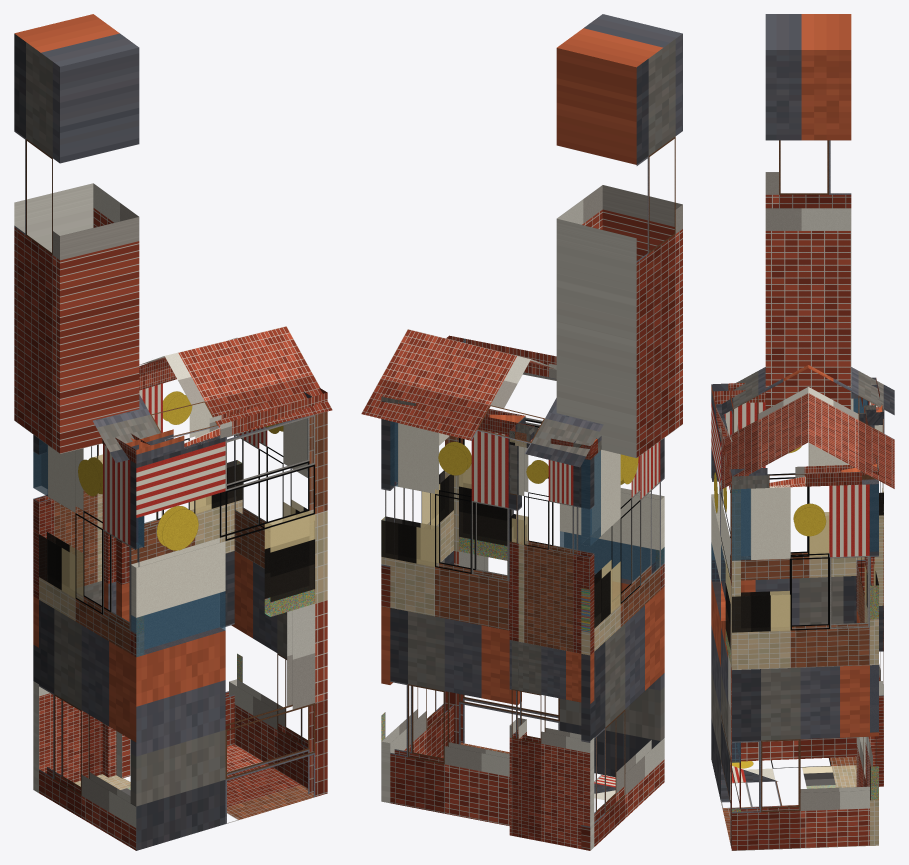
3 renders of one model, left to right at view 1: azimuth 30°, elevation 25°; view 2: azimuth 150°, elevation 25°; view 3: azimuth 270°, elevation 25°, orthographic. The views are drawn at different scales.
Parts seen in each view (by area): view 1: 238625186__wall_0_xb, 238625186__chimney_0_xb, 238625186__wall_5_xb, 238625186_roof_-1_xb, 238625186__wall_1_xb, 238625186__wall_4_xb, 238625186__wall_2_xb, 238625186__wall_0_xf, 238625186__base, 238625186__wall_5_xf, 238625186__cornice_0, 238625186__wall_3_xb (+2 smaller); view 2: 238625186__chimney_0_xb, 238625186__wall_2_xb, 238625186__wall_4_xb, 238625186__wall_5_xb, 238625186__wall_0_xb, 238625186_roof_1_xb, 238625186__wall_1_xb, 238625186__wall_0_xf, 238625186__wall_3_xb, 238625186__wall_5_xf, 238625186__wall_2_xf, 238625186__cornice_0 (+3 smaller); view 3: 238625186__wall_1_xb, 238625186__chimney_0_xb, 238625186__wall_5_xb, 238625186__wall_0_xb, 238625186_roof_1_xb, 238625186_roof_-1_xb, 238625186__wall_2_xb, 238625186__wall_1_xf, 238625186__base, 238625186__cornice_1, 238625186__wall_2_xf, 238625186__wall_4_xb (+5 smaller).
Part boxes in pixels (x1,y1,x2,y2): 238625186__wall_0_xb: [130, 411, 327, 850]; 238625186__chimney_0_xb: [14, 14, 139, 453]; 238625186__wall_5_xb: [33, 439, 144, 850]; 238625186_roof_-1_xb: [93, 326, 332, 462]; 238625186__wall_1_xb: [229, 418, 307, 788]; 238625186__wall_4_xb: [33, 435, 102, 792]; 238625186__wall_2_xb: [116, 383, 242, 778]; 238625186__wall_0_xf: [131, 509, 314, 656]; 238625186__base: [74, 744, 313, 823]; 238625186__wall_5_xf: [33, 439, 143, 597]; 238625186__cornice_0: [126, 388, 327, 463]; 238625186__wall_3_xb: [97, 444, 116, 777]; 238625186__chimney_0_xb: [556, 14, 682, 457]; 238625186__wall_2_xb: [381, 421, 521, 825]; 238625186__wall_4_xb: [509, 446, 594, 850]; 238625186__wall_5_xb: [581, 438, 664, 850]; 238625186__wall_0_xb: [445, 372, 664, 777]; 238625186_roof_1_xb: [361, 329, 603, 467]; 238625186__wall_1_xb: [381, 419, 453, 803]; 238625186__wall_0_xf: [459, 465, 664, 583]; 238625186__wall_3_xb: [509, 444, 526, 836]; 238625186__wall_5_xf: [581, 451, 620, 631]; 238625186__wall_2_xf: [381, 422, 438, 739]; 238625186__cornice_0: [446, 335, 556, 378]; 238625186__wall_1_xb: [732, 484, 878, 850]; 238625186__chimney_0_xb: [765, 14, 851, 409]; 238625186__wall_5_xb: [711, 398, 867, 761]; 238625186__wall_0_xb: [711, 398, 740, 850]; 238625186_roof_1_xb: [808, 365, 894, 488]; 238625186_roof_-1_xb: [722, 365, 808, 488]; 238625186__wall_2_xb: [856, 484, 878, 845]; 238625186__wall_1_xf: [732, 489, 790, 631]; 238625186__base: [721, 756, 879, 842]; 238625186__cornice_1: [730, 464, 878, 489]; 238625186__wall_2_xf: [865, 484, 878, 799]; 238625186__wall_4_xb: [867, 401, 883, 786].
Bounding box in the file's own units: 0.4721 × 1.4 × 0.322.
1 material, 1 textured.
